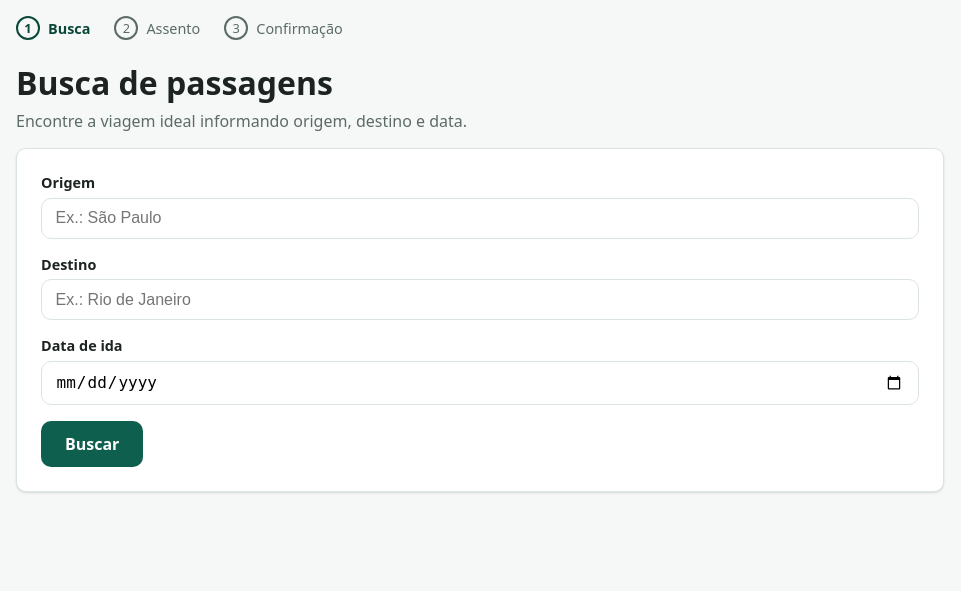
Test: SearchPage › mostra mensagem de erro quando a busca falha
Step 1. Click the button "Buscar" → x=92, y=444, box [41,420,143,466]
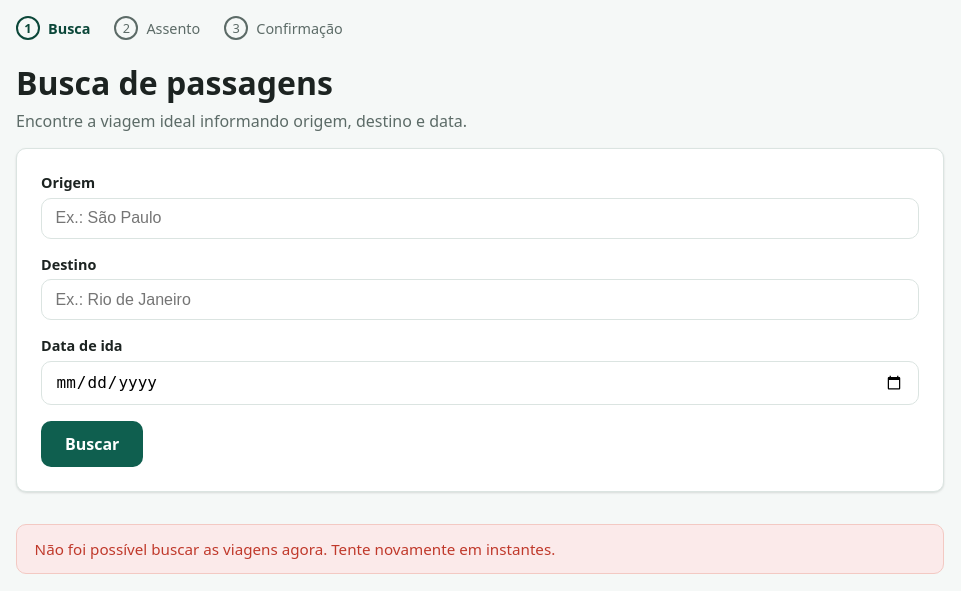
Expected: the message shows "Não foi possível buscar", [35,539,555,559]
